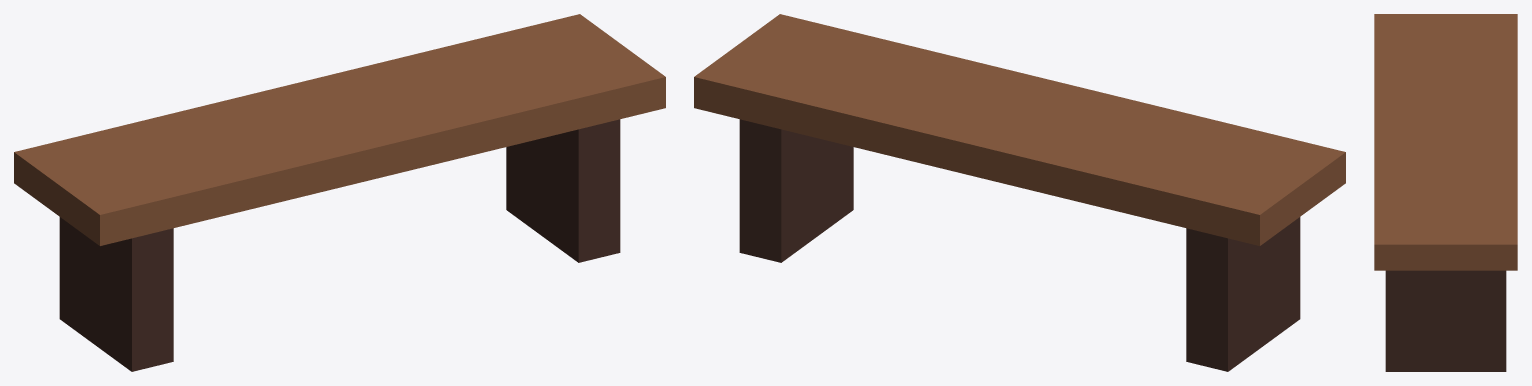
Rendered from bench.glb.
3 views of the same model, side by side, from view 1: azimuth 30°, elevation 25°; view 2: azimuth 150°, elevation 25°; view 3: azimuth 270°, elevation 25° (orthographic). The views are drawn at different scales.
Visible parts, largest first — view 1: seat, leg, leg.001; view 2: seat, leg, leg.001; view 3: seat, leg.001.
Boxes of the visible parts, left/top/right/bottom form: seat: left=14, top=14, right=665, bottom=245; leg: left=59, top=217, right=173, bottom=371; leg.001: left=506, top=119, right=620, bottom=262; seat: left=694, top=14, right=1345, bottom=245; leg: left=1186, top=217, right=1300, bottom=371; leg.001: left=739, top=119, right=853, bottom=262; seat: left=1374, top=14, right=1517, bottom=270; leg.001: left=1385, top=270, right=1506, bottom=371.
Bounding box in the file's own units: 1.9 × 0.55 × 0.5.
